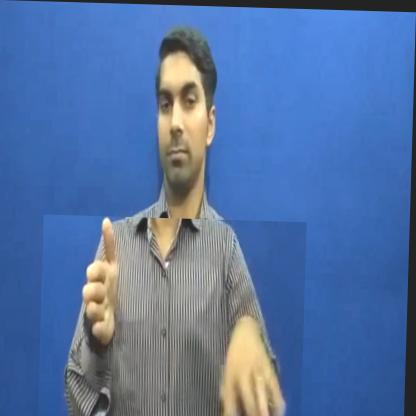Expensive: (40, 214, 308, 416)
